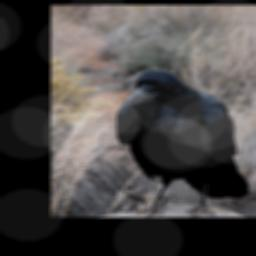Crow: (113, 68, 251, 217)
